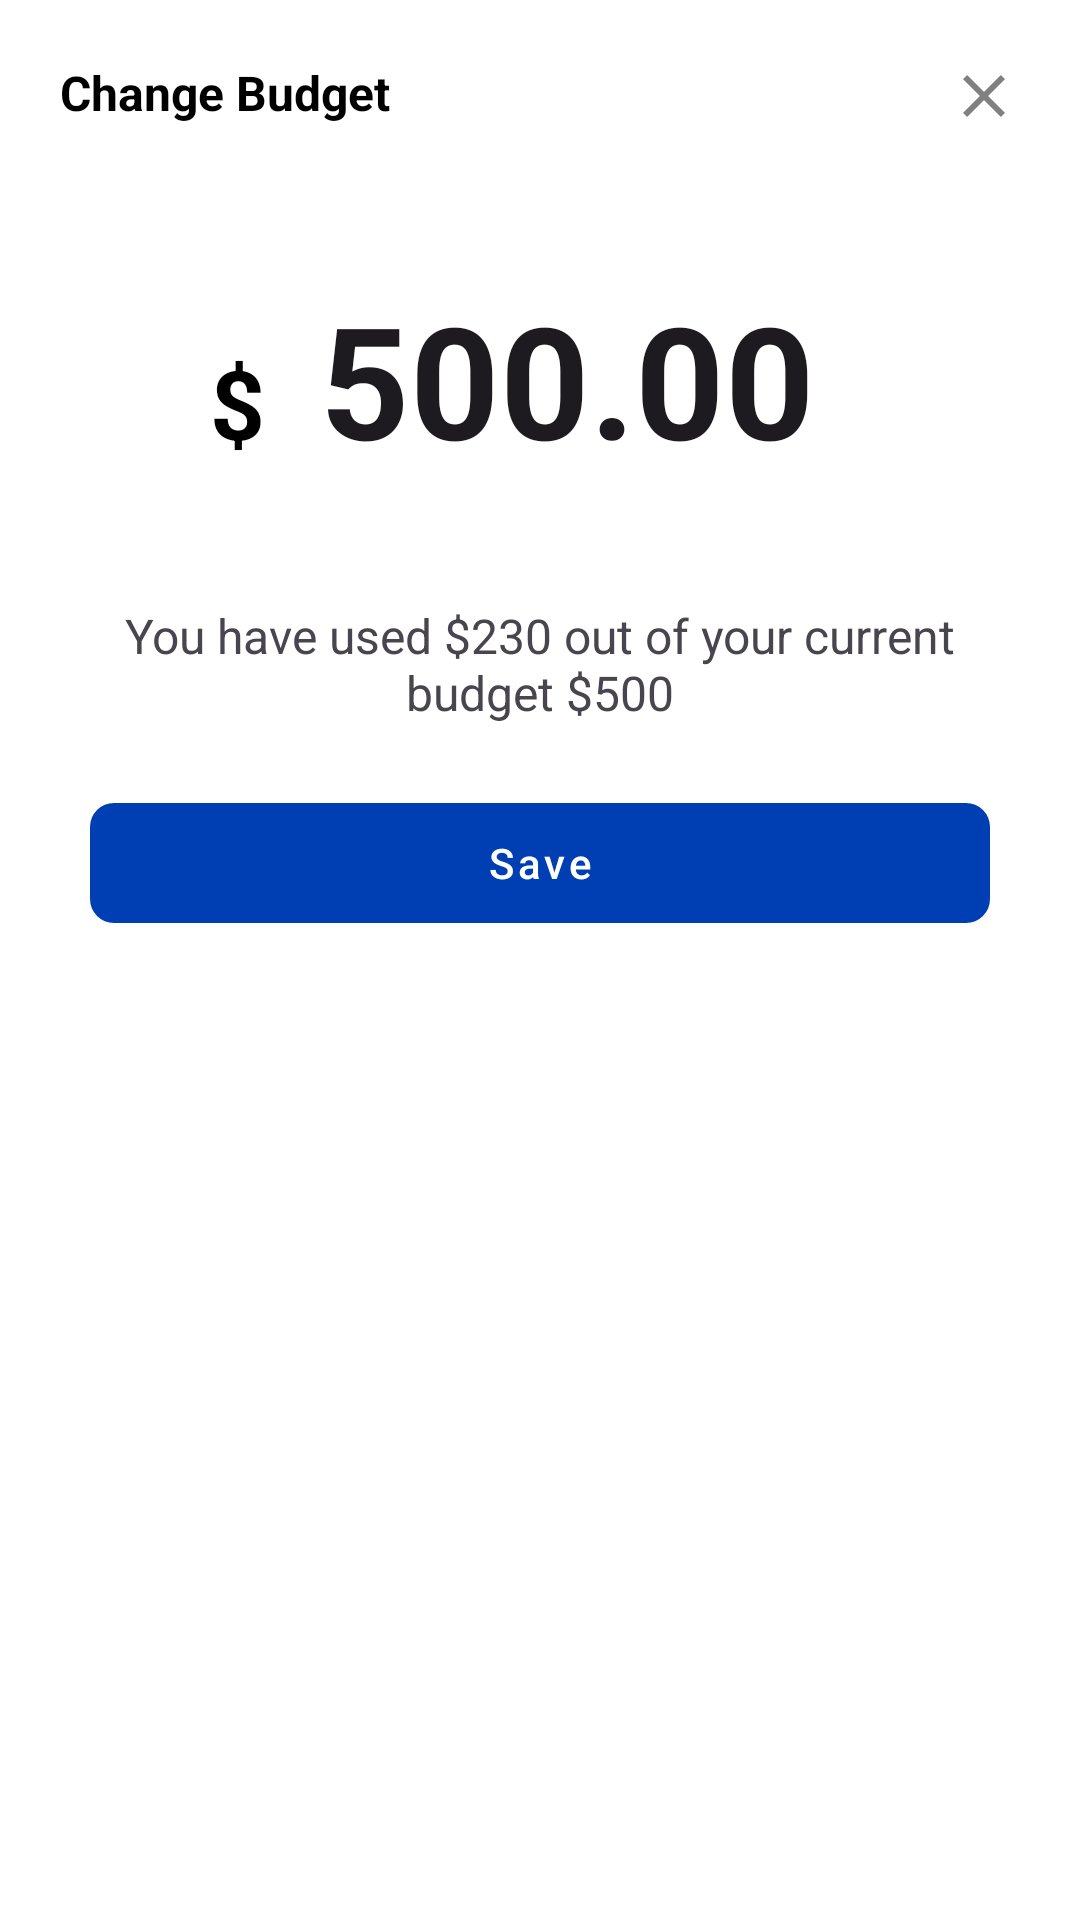

Screen size 1080×1920. Icon name, then its box in pixels as (x1, y1, x2, y2):
clear: (963, 75, 1005, 117)
